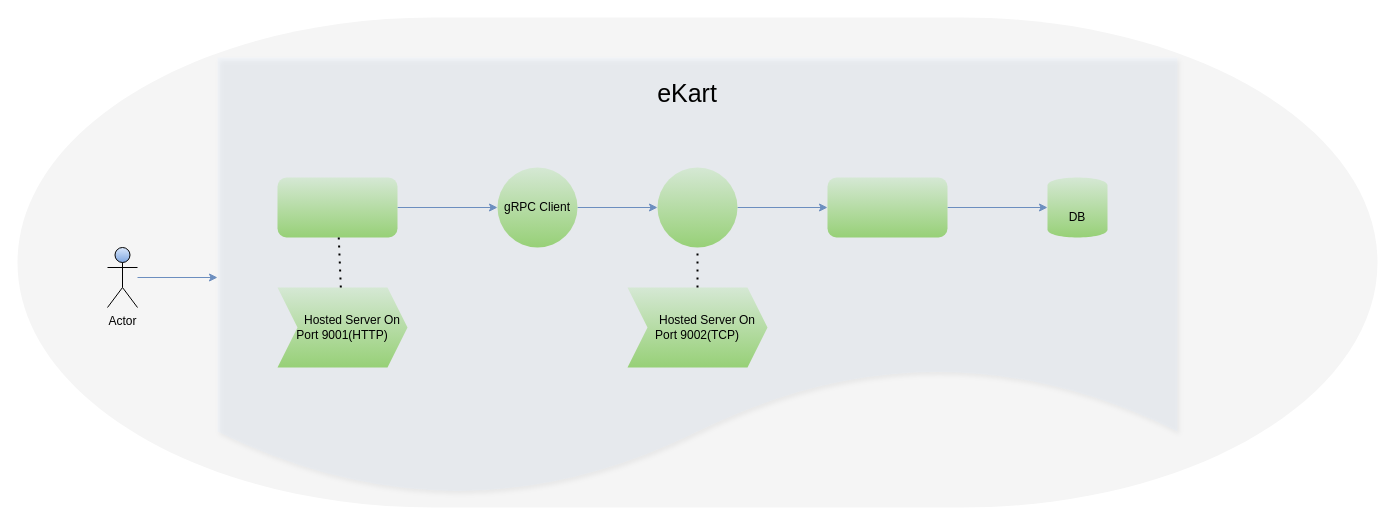
Image size: 1394x524. Some labels were removed from this diagram. Here are the shapes that lost their labels. From the top down, the centre of each, then its label:
the point at 337,207: Rest Controller
the point at 697,207: gRPC Server
the point at 887,207: Service Layer
